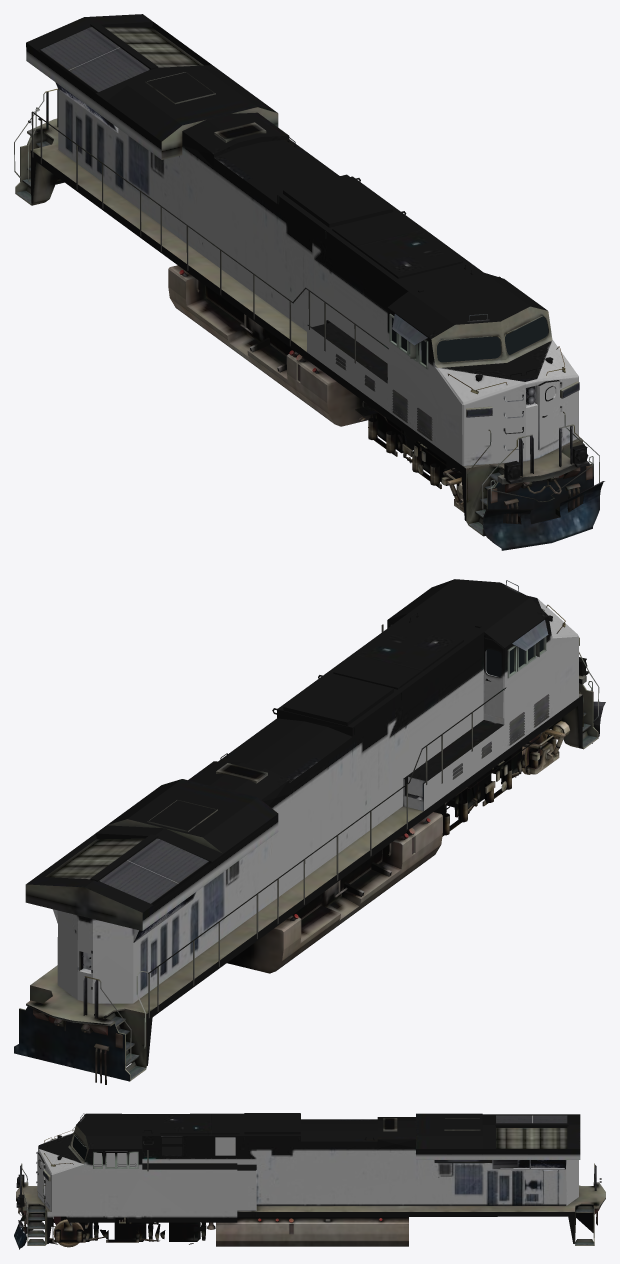
The model's file is train.fbx.
The picture shows the model from 3 angles, top to bottom: view 1: azimuth 30°, elevation 25°; view 2: azimuth 150°, elevation 25°; view 3: azimuth 270°, elevation 25°; orthographic projection. The views are drawn at different scales.
Parts seen in each view (by area): view 1: train; view 2: train; view 3: train.
Part boxes in pixels (box(x1,y1,x2,y2)): train: box(14, 14, 604, 550); train: box(14, 579, 605, 1084); train: box(14, 1113, 605, 1249).
Size of the model in its own units: 1.13 by 1.66 by 7.51.
